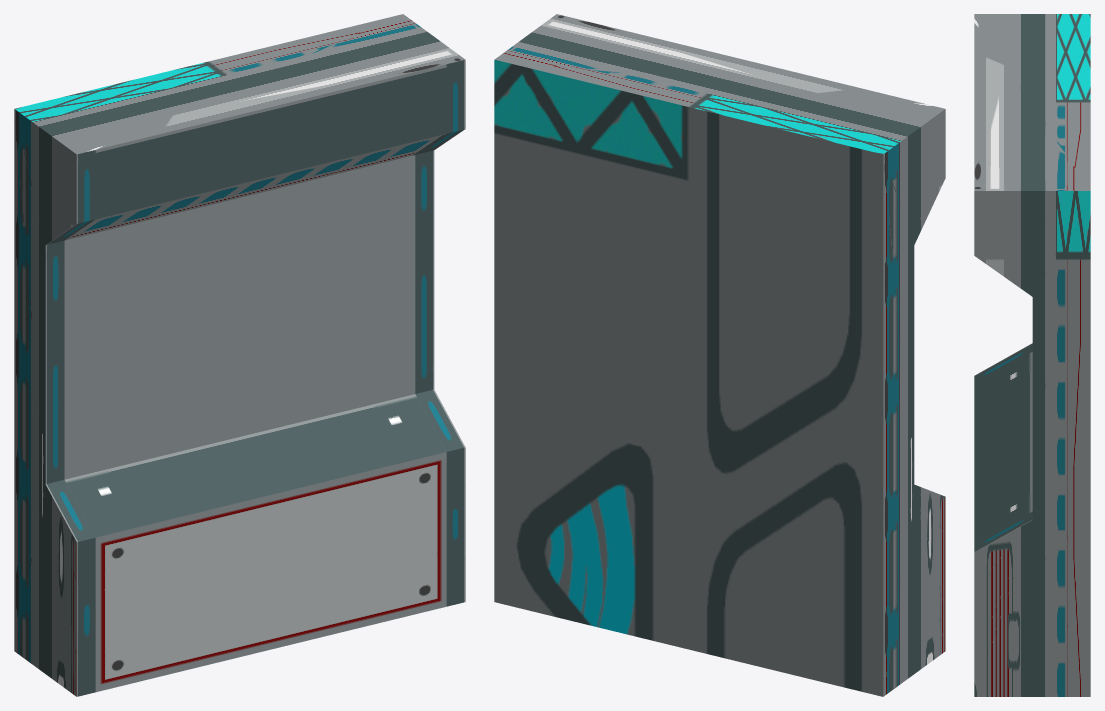
The model's file is P2_Simple3.fbx.
The picture shows the model from 3 angles, left to right: view 1: azimuth 30°, elevation 25°; view 2: azimuth 150°, elevation 25°; view 3: azimuth 270°, elevation 25°; orthographic projection. The views are drawn at different scales.
Parts seen in each view (by area): view 1: Cube.020; view 2: Cube.020; view 3: Cube.020.
Boxes of the visible parts, x1,y1,x2,y2 form: Cube.020: (14, 14, 465, 696); Cube.020: (494, 14, 945, 696); Cube.020: (974, 14, 1090, 696).
Size of the model in its own units: 300 by 83.32 by 400.
